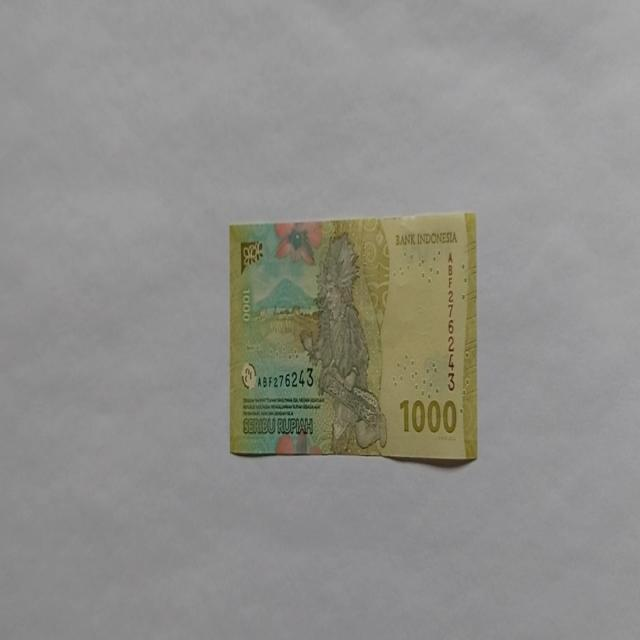seribu rupiah kertas: (228, 211, 478, 463)
